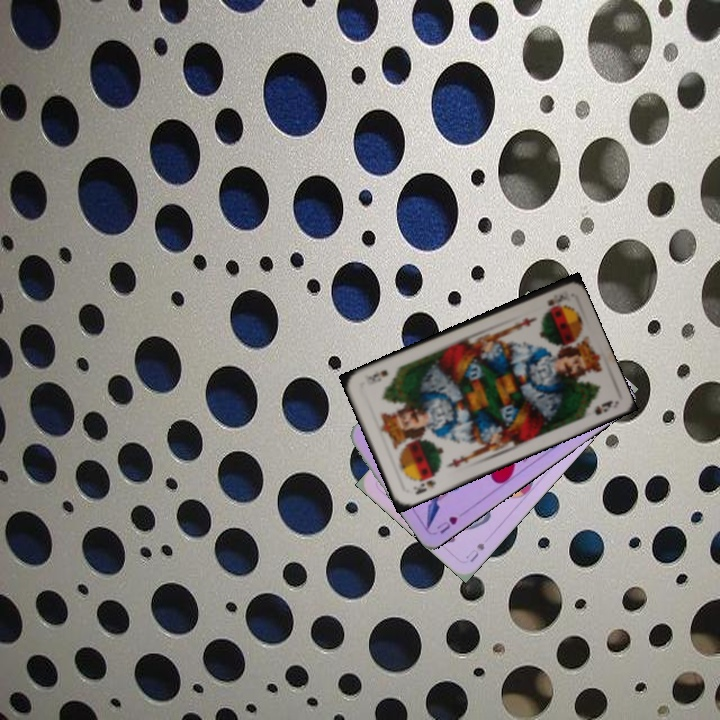HU: (432, 512, 460, 537)
SK: (411, 470, 439, 497), (543, 290, 569, 309)
SU: (462, 539, 487, 565)
